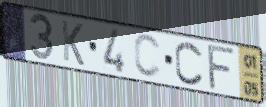3: (28, 12, 56, 64)
4: (101, 26, 126, 75)
C: (173, 39, 205, 88), (132, 32, 163, 80)
F: (207, 44, 238, 93)
K: (60, 18, 86, 68)
